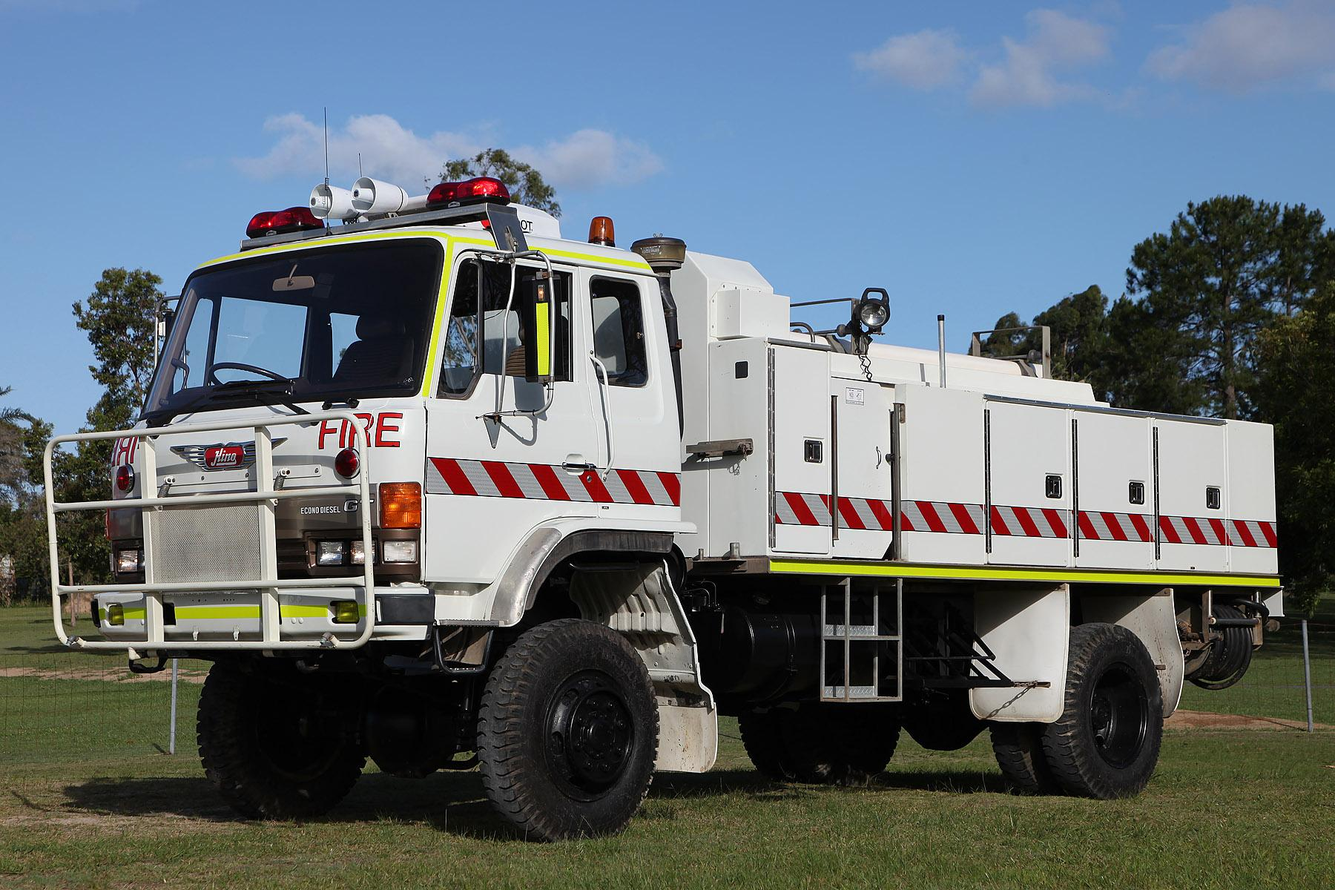Fire-engine: (42, 108, 1286, 843)
